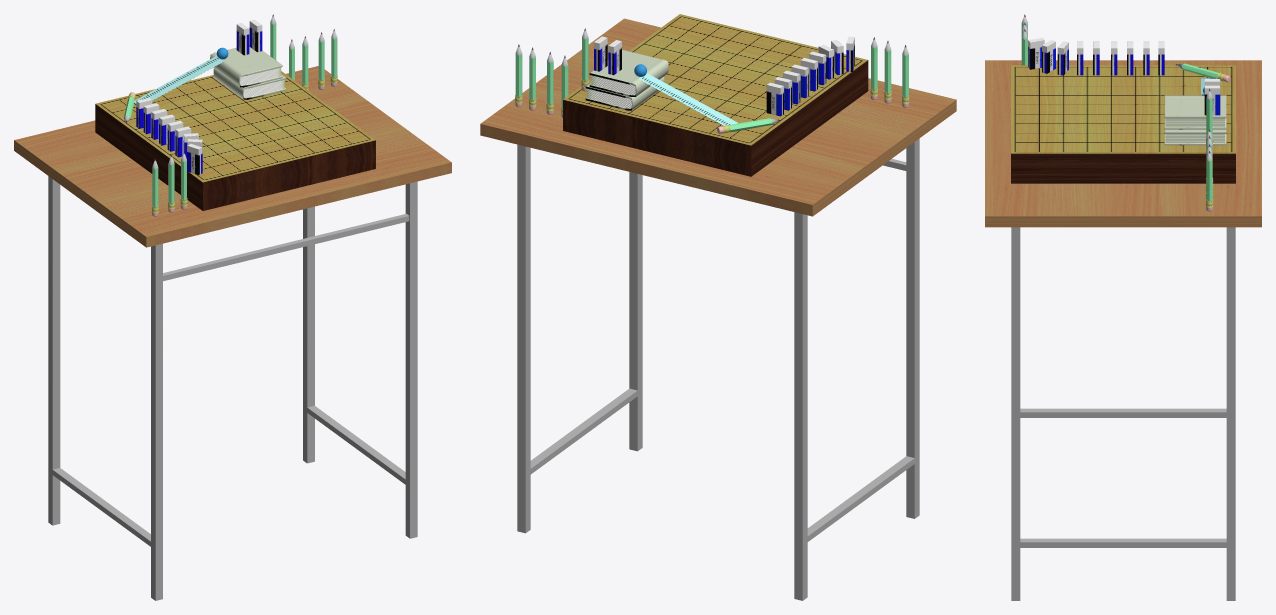
File: slider_on_desk_limes_v9.glb
The picture shows the model from 3 angles, left to right: view 1: azimuth 30°, elevation 25°; view 2: azimuth 150°, elevation 25°; view 3: azimuth 270°, elevation 25°; orthographic projection. The views are drawn at different scales.
Parts seen in each view (by area): view 1: board, desk_top, desk_leg2, desk_leg3, desk_leg4, desk_leg1, desk_bar_top_1to3, book02, desk_bar_bottom_1to2, desk_bar_bottom_3to4, book01, Ruler; view 2: board, desk_top, desk_leg3, desk_leg1, desk_leg4, desk_leg2, book02, desk_bar_bottom_1to2, desk_bar_bottom_3to4, Ruler, book01; view 3: board, desk_top, desk_leg2, desk_leg1, desk_bar_bottom_1to2, desk_bar_bottom_3to4, book02, book01, Eraser11, Eraser10, Eraser01, Dwarf_Pencil01 (+1 smaller).
Boxes of the visible parts, x1=… form: board: x1=95, y1=71, x2=375, y2=210; desk_top: x1=14, y1=66, x2=451, y2=247; desk_leg2: x1=405, y1=181, x2=417, y2=538; desk_leg3: x1=48, y1=176, x2=60, y2=525; desk_leg4: x1=151, y1=243, x2=162, y2=600; desk_leg1: x1=303, y1=206, x2=314, y2=463; desk_bar_top_1to3: x1=163, y1=213, x2=409, y2=281; book02: x1=210, y1=45, x2=282, y2=87; desk_bar_bottom_1to2: x1=305, y1=405, x2=407, y2=486; desk_bar_bottom_3to4: x1=50, y1=468, x2=150, y2=546; book01: x1=213, y1=68, x2=286, y2=99; Ruler: x1=134, y1=56, x2=224, y2=104; board: x1=563, y1=14, x2=868, y2=176; desk_top: x1=480, y1=18, x2=956, y2=216; desk_leg3: x1=794, y1=212, x2=807, y2=600; desk_leg1: x1=517, y1=144, x2=530, y2=533; desk_leg4: x1=906, y1=138, x2=919, y2=518; desk_leg2: x1=629, y1=172, x2=642, y2=451; book02: x1=589, y1=49, x2=668, y2=96; desk_bar_bottom_1to2: x1=528, y1=388, x2=637, y2=476; desk_bar_bottom_3to4: x1=807, y1=456, x2=916, y2=541; Ruler: x1=639, y1=73, x2=738, y2=125; book01: x1=585, y1=76, x2=664, y2=110; board: x1=1011, y1=65, x2=1235, y2=183; desk_top: x1=985, y1=60, x2=1261, y2=227; desk_leg2: x1=1011, y1=227, x2=1020, y2=600; desk_leg1: x1=1226, y1=227, x2=1235, y2=600; desk_bar_bottom_1to2: x1=1016, y1=538, x2=1230, y2=547; desk_bar_bottom_3to4: x1=1020, y1=408, x2=1226, y2=417; book02: x1=1164, y1=95, x2=1226, y2=129; book01: x1=1164, y1=129, x2=1226, y2=145; Eraser11: x1=1028, y1=38, x2=1044, y2=69; Eraser10: x1=1042, y1=40, x2=1055, y2=73; Eraser01: x1=1204, y1=85, x2=1220, y2=115; Dwarf_Pencil01: x1=1206, y1=151, x2=1213, y2=211.
Bounding box in the file's own units: 12 × 17.48 × 9.
19 materials, 17 textured.
